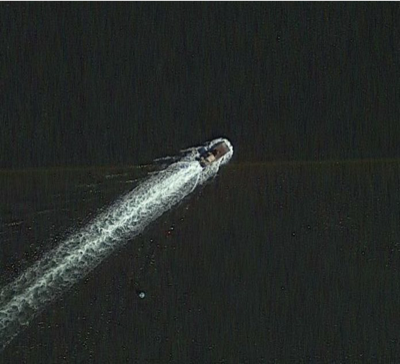boat: (193, 138, 234, 170)
